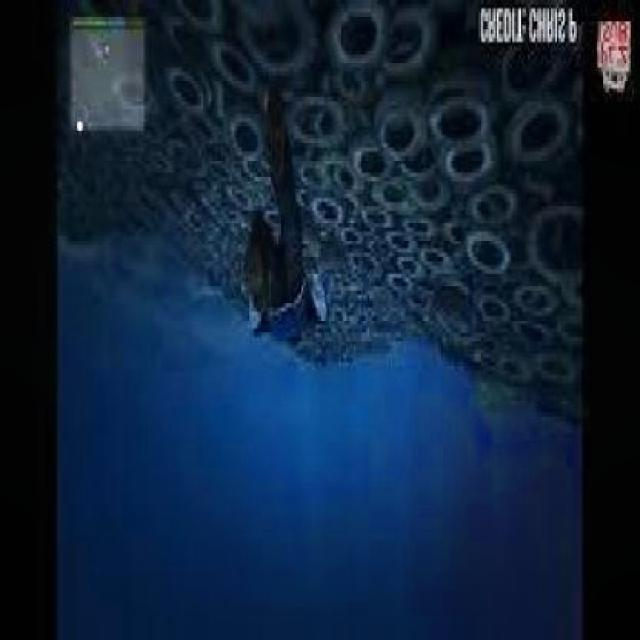tire: (414, 55, 517, 173), (462, 160, 536, 278), (278, 67, 354, 168), (345, 88, 424, 185), (446, 130, 519, 228), (162, 51, 236, 126), (321, 4, 379, 84), (474, 219, 520, 316), (474, 278, 520, 367), (240, 97, 277, 181)
